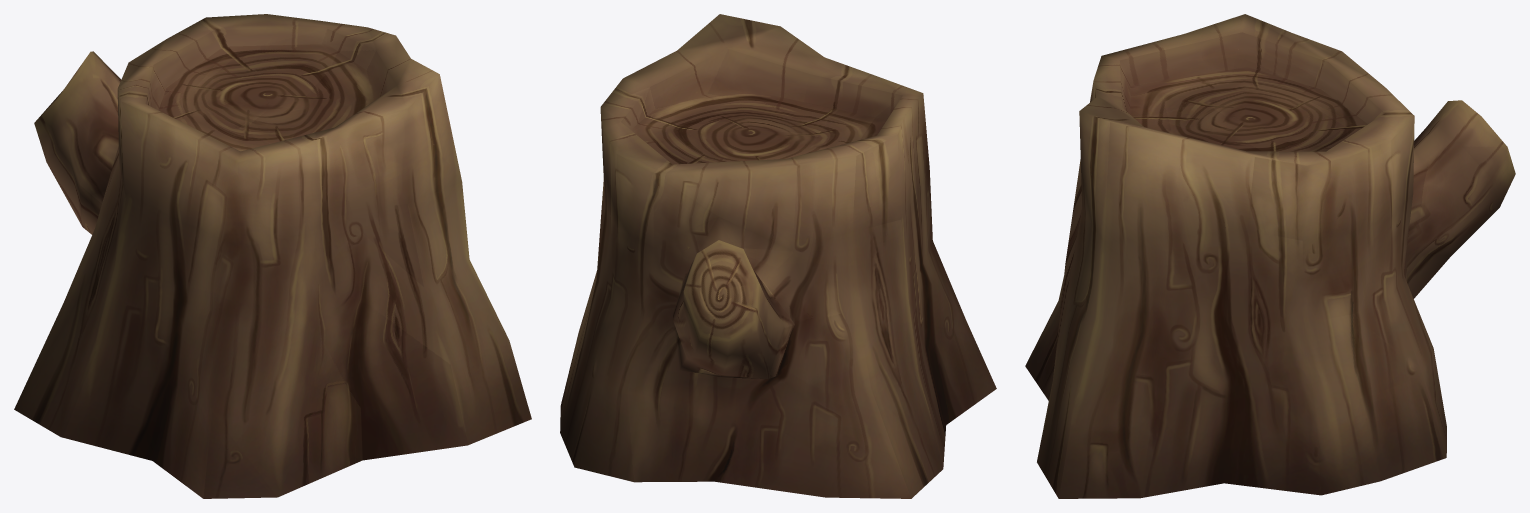
File: tree_bark.fbx
3 views of the same model, side by side, from view 1: azimuth 30°, elevation 25°; view 2: azimuth 150°, elevation 25°; view 3: azimuth 270°, elevation 25° (orthographic). The views are drawn at different scales.
Visible parts, largest first — view 1: Cube; view 2: Cube; view 3: Cube.
Part boxes in pixels (x1=…): Cube: x1=14, y1=14, x2=531, y2=498; Cube: x1=560, y1=14, x2=996, y2=498; Cube: x1=1025, y1=14, x2=1515, y2=498.
Size of the model in its own units: 360 by 311 by 402.
